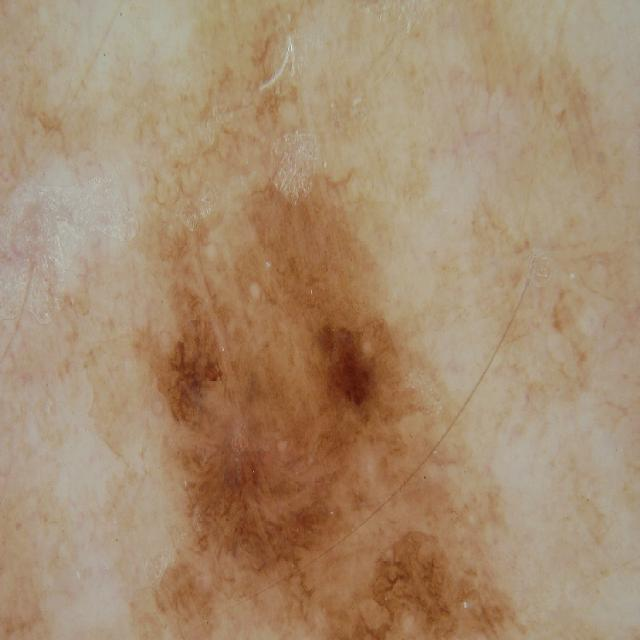Melanoma: (151, 172, 524, 640)
